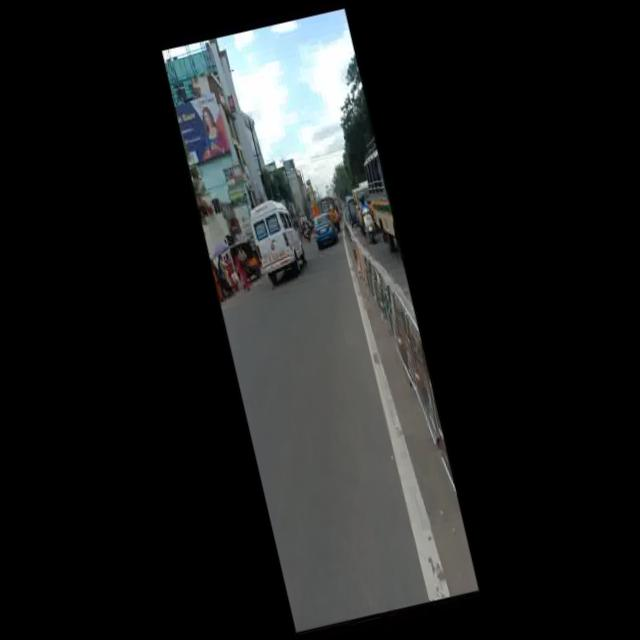ambulance: (242, 190, 315, 290)
